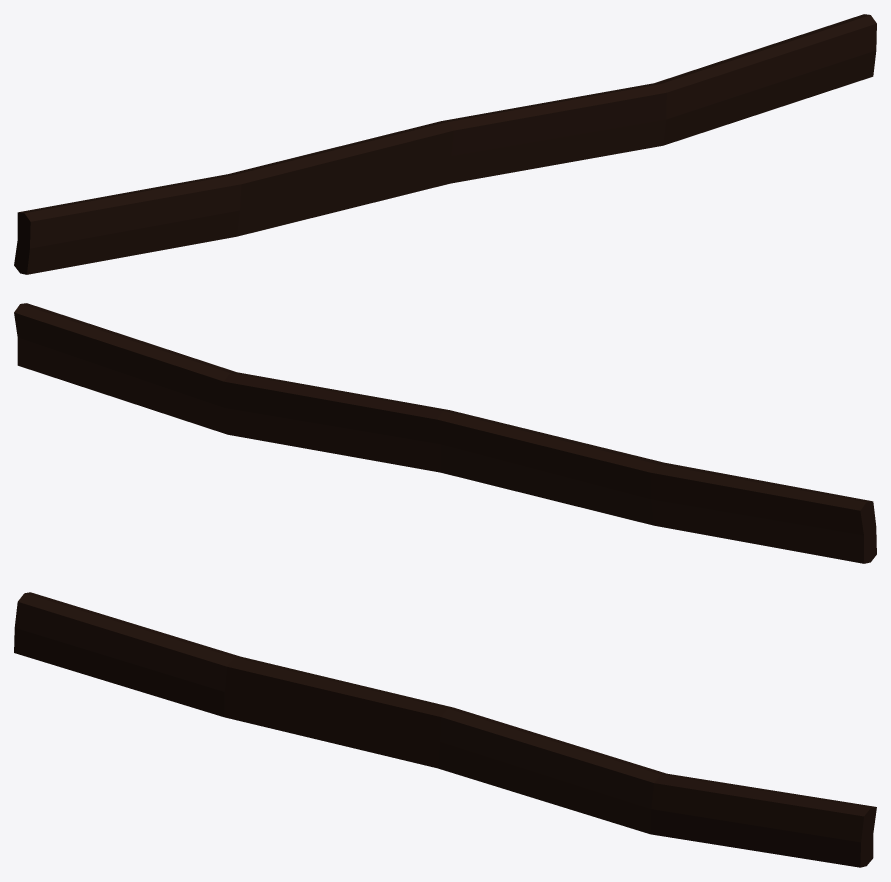
File: BoardLong_FBX.fbx
3 views of the same model, one above another, from view 1: azimuth 30°, elevation 25°; view 2: azimuth 150°, elevation 25°; view 3: azimuth 330°, elevation 25° (orthographic).
Parts seen in each view (by area): view 1: Plank_Long; view 2: Plank_Long; view 3: Plank_Long.
Part boxes in pixels (left/top/right/bottom): Plank_Long: left=14, top=14, right=876, bottom=274; Plank_Long: left=14, top=303, right=876, bottom=563; Plank_Long: left=14, top=592, right=876, bottom=867.
Bounding box in the file's own units: 316 × 30.27 × 9.72.
